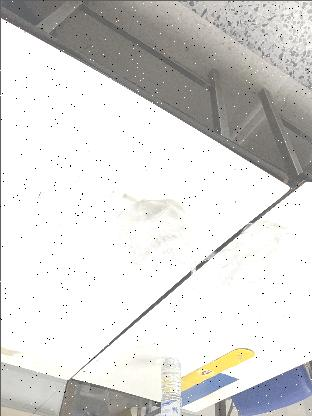Others: (111, 192, 197, 276), (13, 172, 115, 240), (208, 228, 286, 288)
Plastic Bottle: (156, 358, 184, 416)
